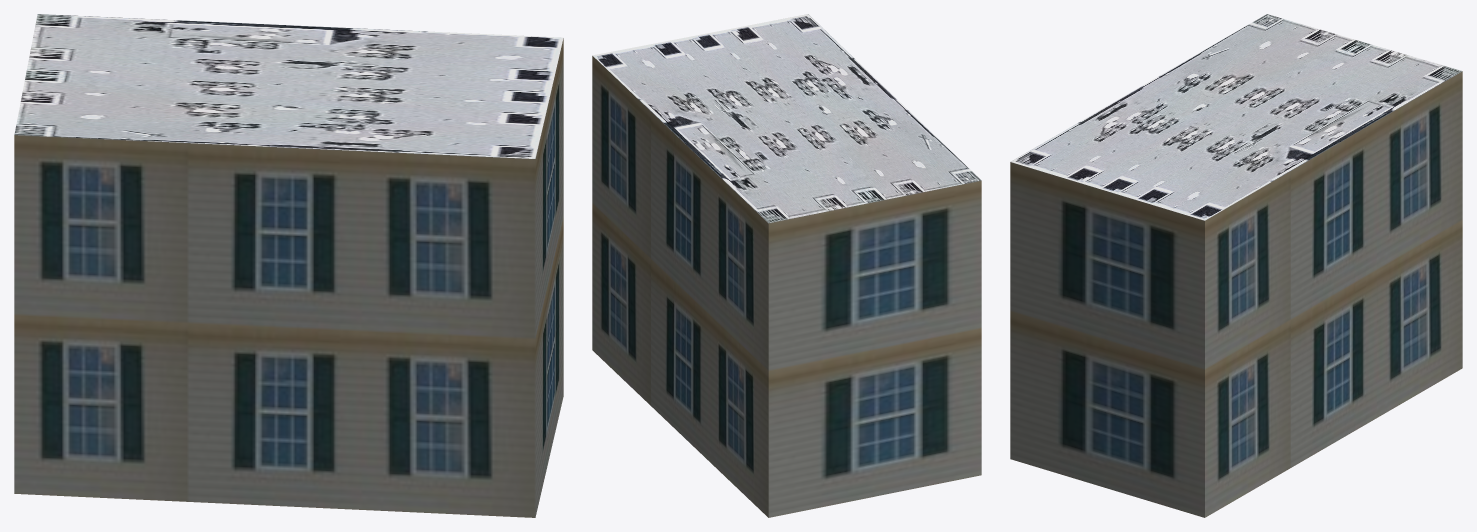
The model's file is ResTex__199.fbx.
3 renders of one model, left to right at view 1: azimuth 30°, elevation 25°; view 2: azimuth 150°, elevation 25°; view 3: azimuth 270°, elevation 25°, orthographic. The views are drawn at different scales.
Visible parts, largest first — view 1: CityEngineMaterial_7_m, CityEngineMaterial_m; view 2: CityEngineMaterial_7_m, CityEngineMaterial_m; view 3: CityEngineMaterial_7_m, CityEngineMaterial_m.
Part boxes in pixels (box(x1,y1,x2,y2)): CityEngineMaterial_7_m: box(14, 38, 563, 517); CityEngineMaterial_m: box(14, 14, 563, 158); CityEngineMaterial_7_m: box(592, 56, 981, 517); CityEngineMaterial_m: box(592, 14, 981, 223); CityEngineMaterial_7_m: box(1010, 71, 1462, 517); CityEngineMaterial_m: box(1010, 14, 1462, 220).
Bounding box in the file's own units: 8.95 × 6 × 8.28.
Materials: 2 (2 with a texture image).
